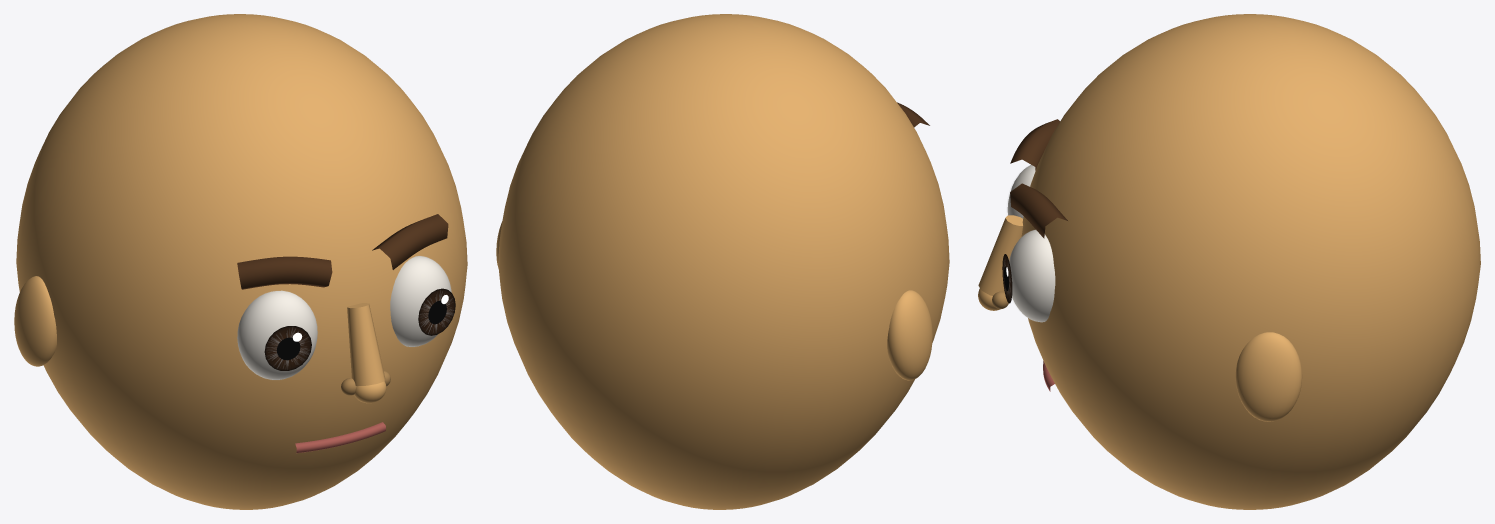
File: 09-broussailleux.glb
3 renders of one model, left to right at view 1: azimuth 30°, elevation 25°; view 2: azimuth 150°, elevation 25°; view 3: azimuth 270°, elevation 25°, orthographic.
Size of the model in its own units: 0.3087 by 0.321 by 0.3166.
Materials: 9 (1 with a texture image).
